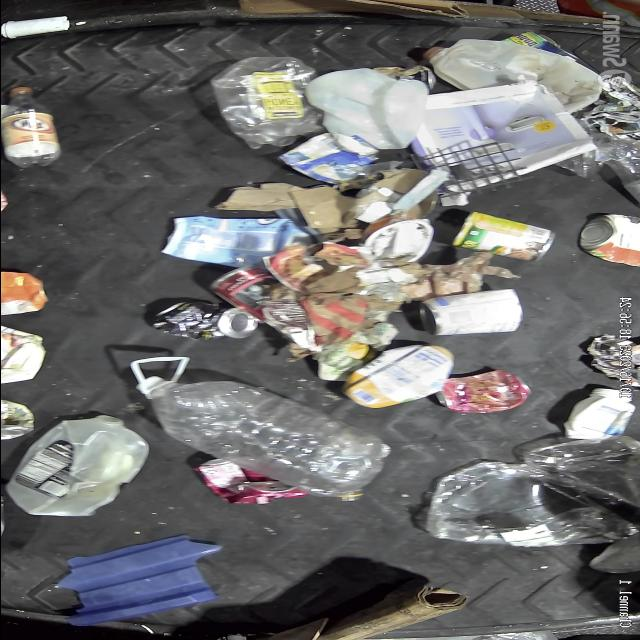can: (449, 210, 556, 262), (276, 134, 378, 184), (196, 458, 306, 504), (419, 288, 521, 335), (205, 266, 281, 322), (433, 371, 531, 413), (150, 302, 258, 339), (578, 214, 640, 268)
milk_jug: (1, 414, 150, 516), (420, 38, 601, 114), (304, 67, 429, 149)
non_white_jug: (160, 215, 308, 268), (338, 344, 452, 408)
plastic_bottle: (130, 354, 390, 494), (0, 87, 61, 169)
